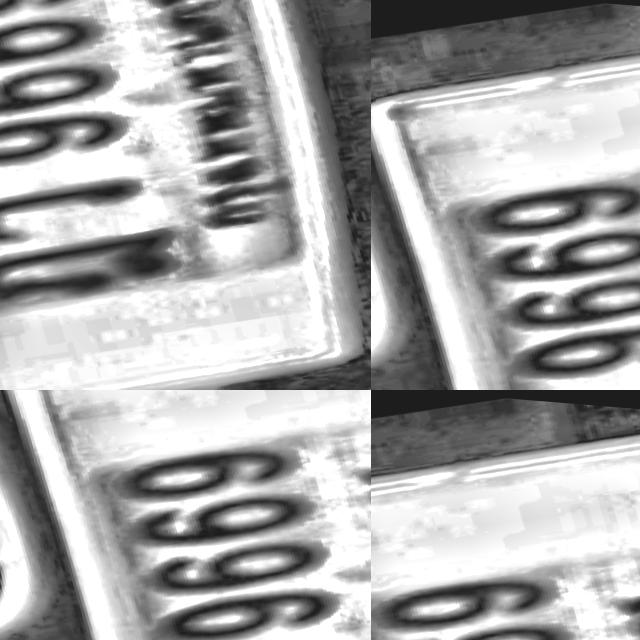license-plate: (0, 390, 371, 640), (371, 390, 640, 640)
